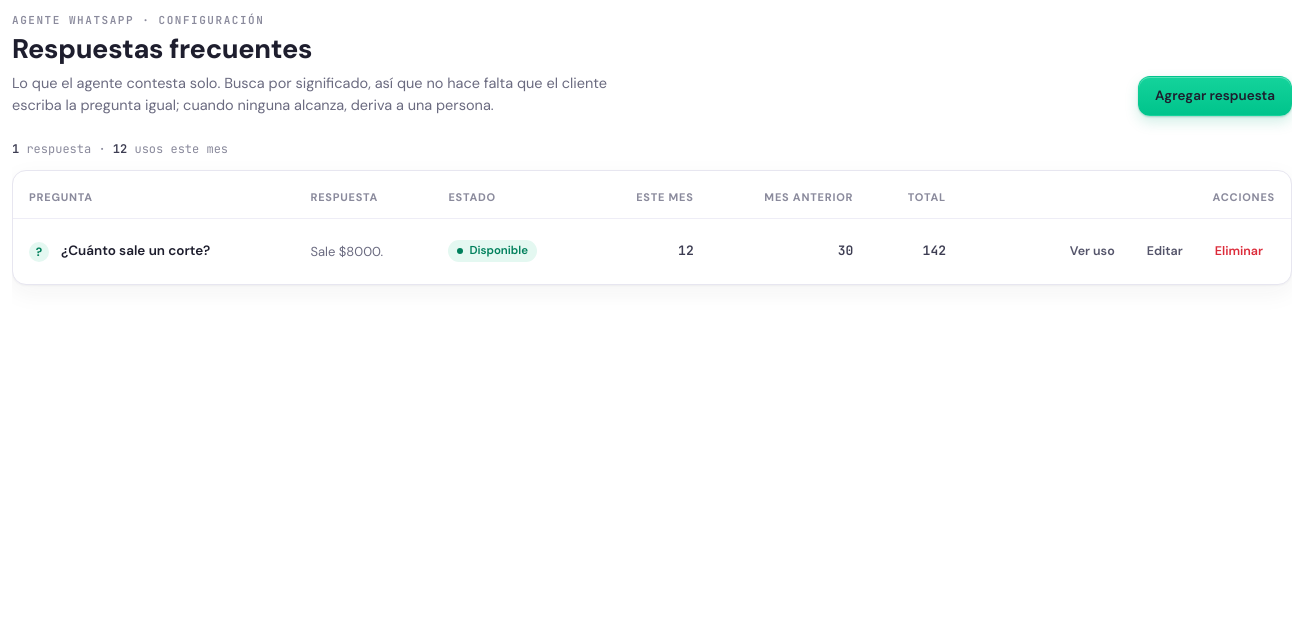
Test: PAN-WA-02 — respuestas frecuentes › «Ver uso» abre el detalle con la frase del prototipo y las dos participaciones
Click the button "Ver uso": (1092, 251) [1058,234,1127,269]
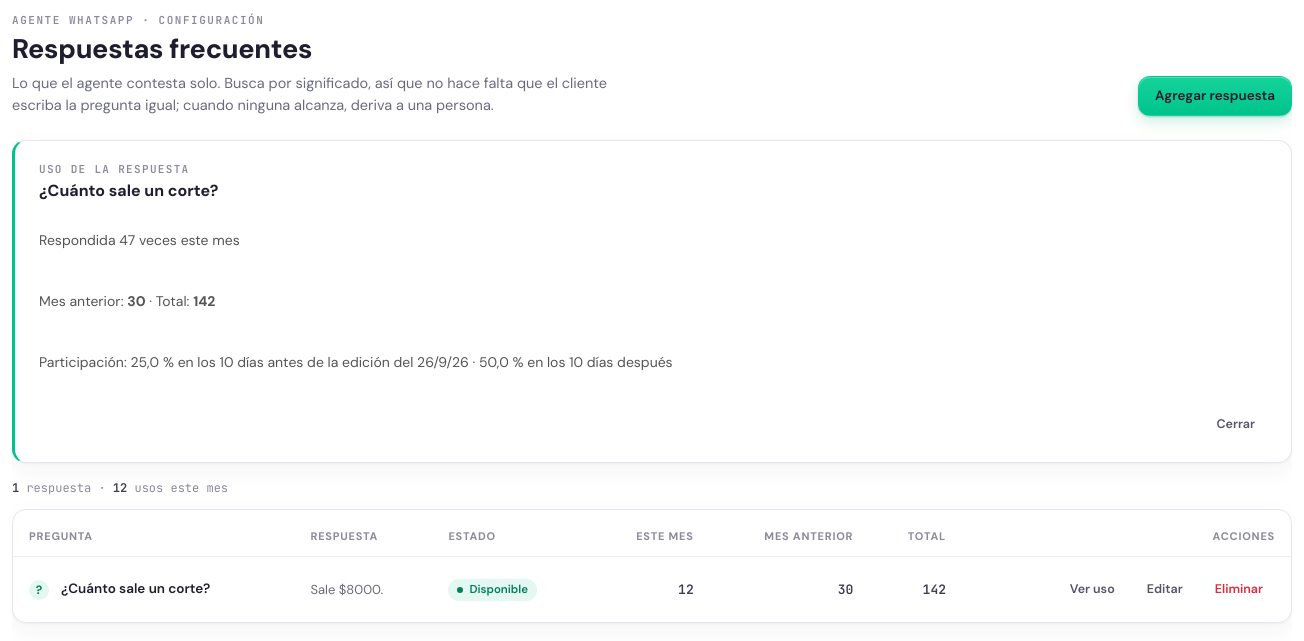
Expected: the text "Respondida 47 veces este mes" is shown, [39,231,240,249]
